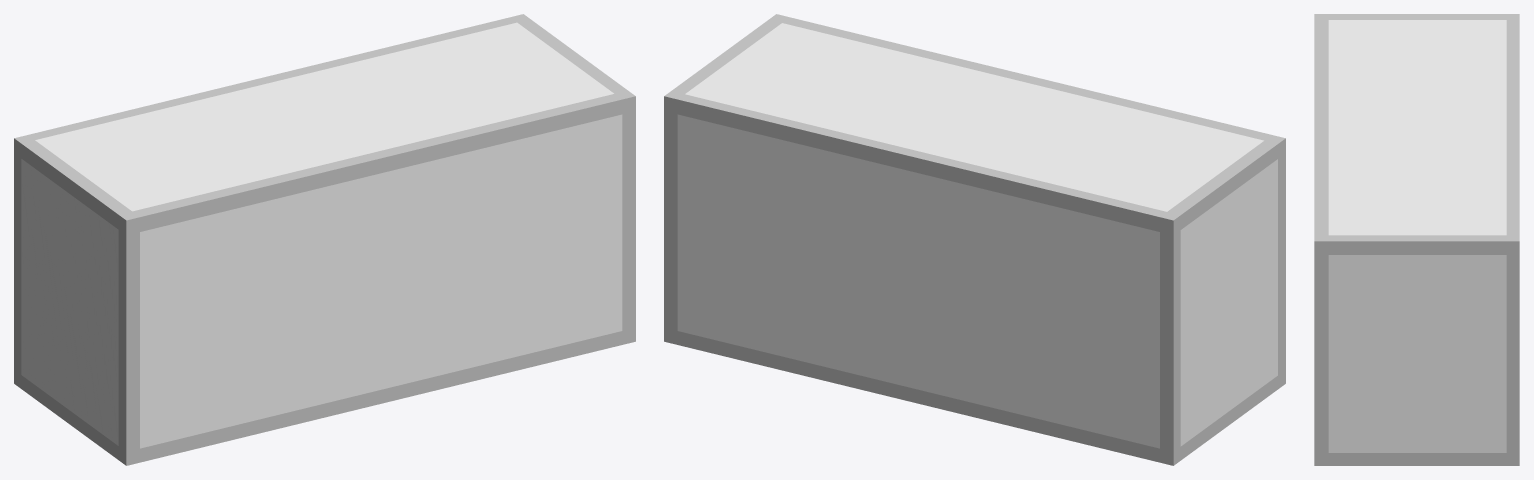
The model's file is boxtable02.fbx.
3 views of the same model, side by side, from view 1: azimuth 30°, elevation 25°; view 2: azimuth 150°, elevation 25°; view 3: azimuth 270°, elevation 25° (orthographic). The views are drawn at different scales.
Visible parts, largest first — view 1: BoxTable; view 2: BoxTable; view 3: BoxTable.
Boxes of the visible parts, x1=… form: BoxTable: x1=14, y1=14, x2=635, y2=465; BoxTable: x1=664, y1=14, x2=1285, y2=465; BoxTable: x1=1314, y1=14, x2=1519, y2=465.
Bounding box in the file's own units: 142 × 65.46 × 54.29.
Materials: 1 (1 with a texture image).
